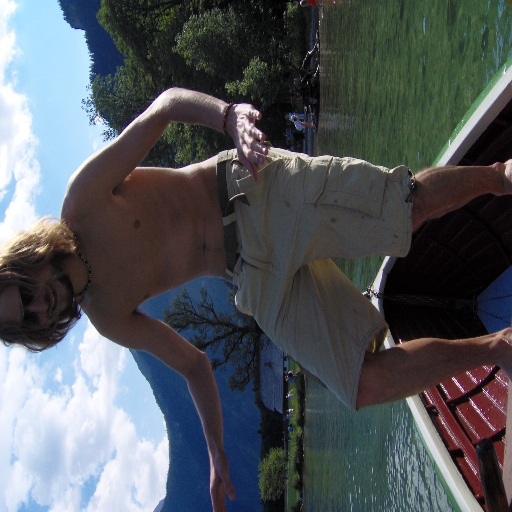hand: (220, 95, 264, 165), (208, 455, 235, 511)
